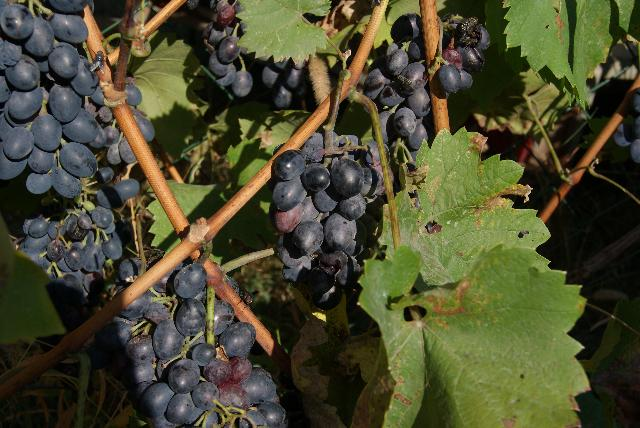grapes: (125, 300, 289, 428), (270, 132, 384, 310), (21, 206, 131, 331), (362, 12, 435, 151), (86, 291, 170, 380), (434, 14, 490, 94)
